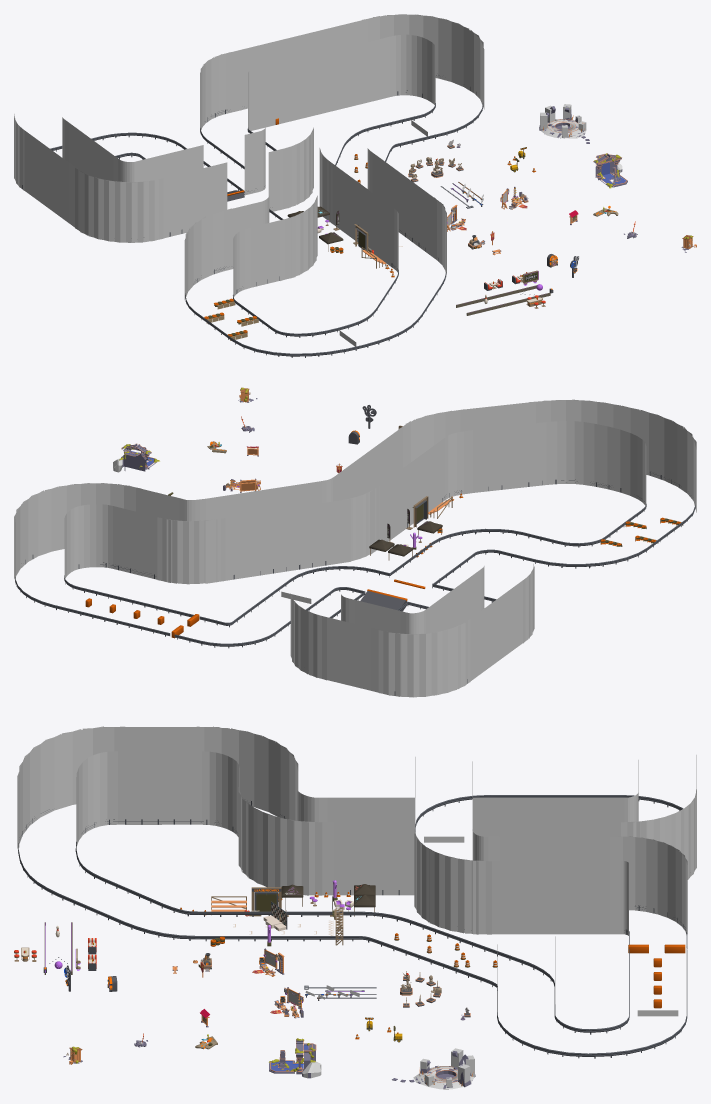
The model's file is areas-compressed.glb.
3 renders of one model, top to bottom at view 1: azimuth 30°, elevation 25°; view 2: azimuth 150°, elevation 25°; view 3: azimuth 270°, elevation 25°, orthographic. The views are drawn at different scales.
Parts seen in each view (by area): view 1: trimesh, refRailsPhysicalFixed, Cube089, Plane119_1, blocks; view 2: trimesh, refRailsPhysicalFixed, jump, Cube089, Cube088; view 3: trimesh, refRailsPhysicalFixed, Cube088, Cube089, Cube173.
Boxes of the visible parts, bbox=[...] form: trimesh: bbox=[14, 14, 484, 299]; refRailsPhysicalFixed: bbox=[22, 75, 483, 357]; Cube089: bbox=[593, 153, 627, 188]; Plane119_1: bbox=[456, 285, 550, 315]; blocks: bbox=[204, 298, 258, 340]; trimesh: bbox=[14, 399, 696, 697]; refRailsPhysicalFixed: bbox=[15, 471, 695, 695]; jump: bbox=[360, 579, 425, 611]; Cube089: bbox=[119, 443, 159, 471]; Cube088: bbox=[370, 496, 452, 560]; trimesh: bbox=[17, 726, 696, 1021]; refRailsPhysicalFixed: bbox=[18, 795, 687, 1058]; Cube088: bbox=[210, 887, 374, 946]; Cube089: bbox=[269, 1038, 316, 1078]; Cube173: bbox=[392, 1051, 475, 1088].
Size of the model in its own units: 169 by 22.1 by 169.
Materials: 23 (13 with a texture image).
